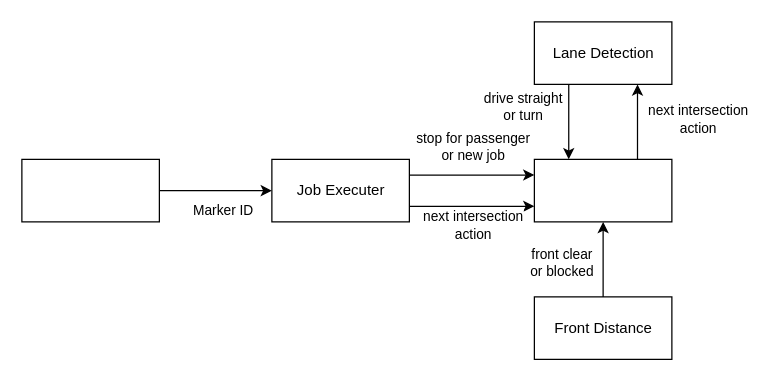
The diagram is 769 pixels wide and 381 high, and some of its shapes have lost their labels. Each missing label, with the centre of its shape:
"Motor Controller" belongs at pixel 602 190.
"Roadmarker" belongs at pixel 90 190.
